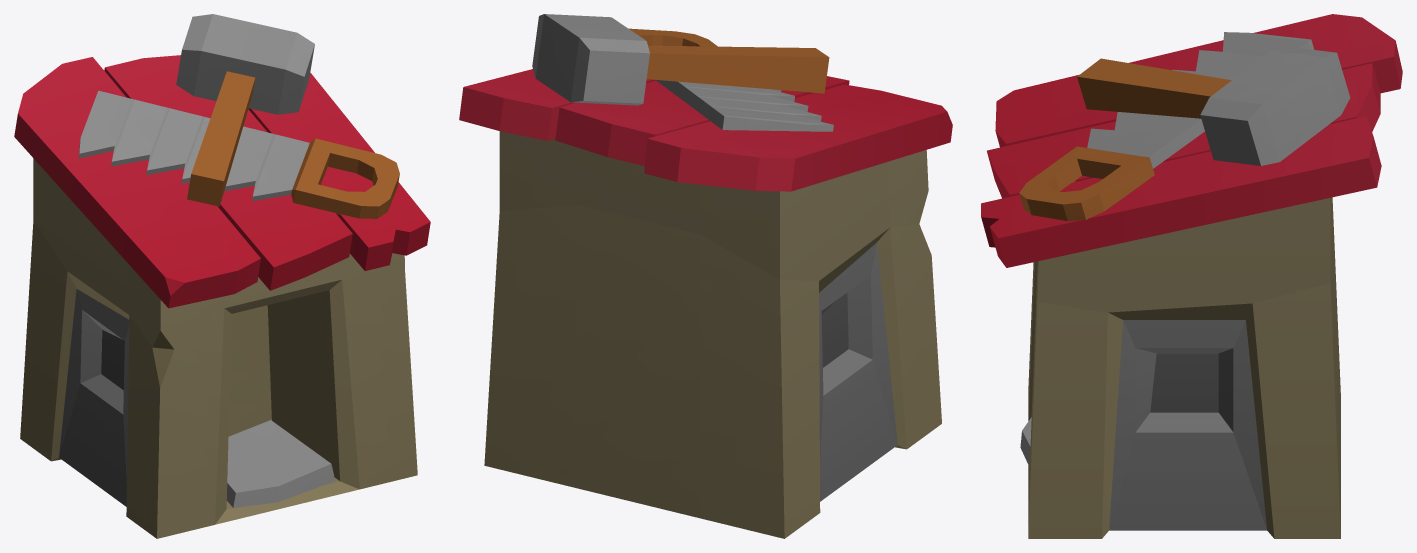
Rendered from tools-shop.glb.
The picture shows the model from 3 angles, left to right: view 1: azimuth 30°, elevation 25°; view 2: azimuth 150°, elevation 25°; view 3: azimuth 270°, elevation 25°; orthographic projection. The views are drawn at different scales.
Visible parts, largest first — view 1: Cube; view 2: Cube; view 3: Cube.
Part boxes in pixels (<box>): Cube: <box>14,14,430,538</box>; Cube: <box>459,14,952,538</box>; Cube: <box>981,14,1402,538</box>.
Size of the model in its own units: 2.46 by 3.32 by 2.89.
Materials: 1 (1 with a texture image).
